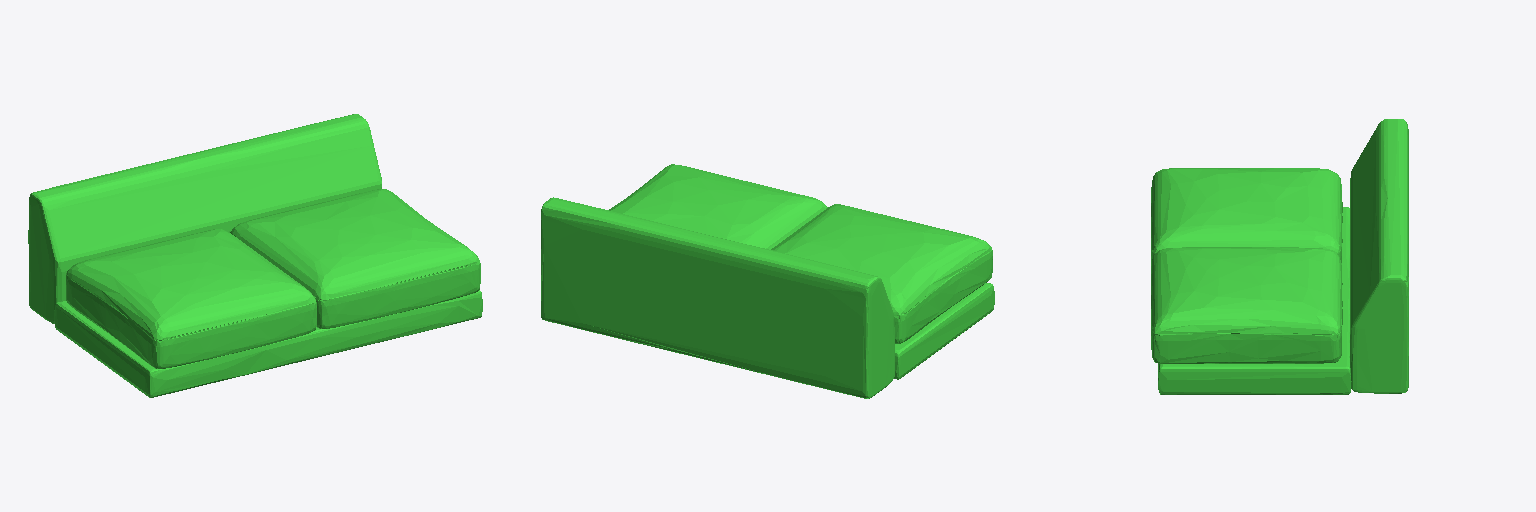
The model's file is fm1_design1_body1.obj.
3 views of the same model, side by side, from view 1: azimuth 30°, elevation 25°; view 2: azimuth 150°, elevation 25°; view 3: azimuth 270°, elevation 25° (orthographic).
Visible parts, largest first — view 1: Box575; view 2: Box575; view 3: Box575.
Boxes of the visible parts, x1=… form: Box575: x1=28, y1=114, x2=482, y2=397; Box575: x1=541, y1=164, x2=994, y2=398; Box575: x1=1151, y1=119, x2=1408, y2=394.
Bounding box in the file's own units: 1310 × 441 × 878.